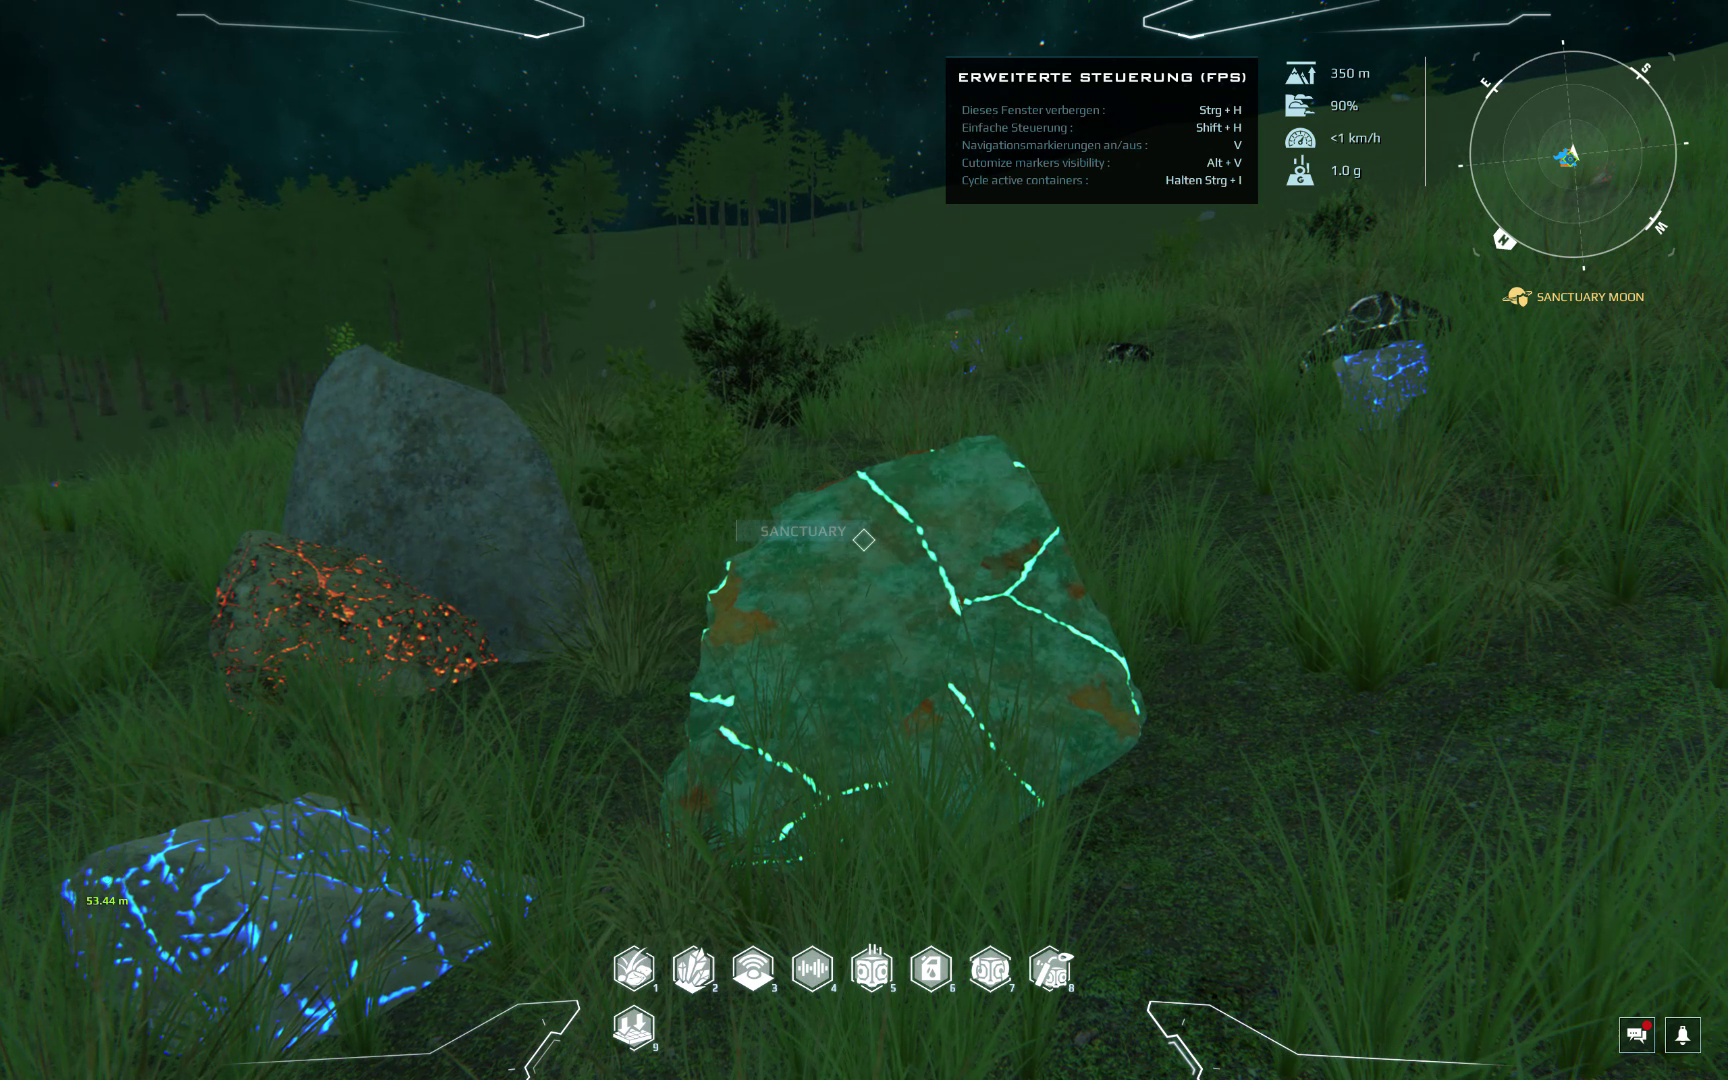Ore: (656, 434, 1146, 860), (53, 793, 544, 1036), (211, 530, 498, 703), (1300, 280, 1448, 360), (1324, 338, 1439, 421), (1092, 333, 1161, 370), (948, 348, 994, 376)
